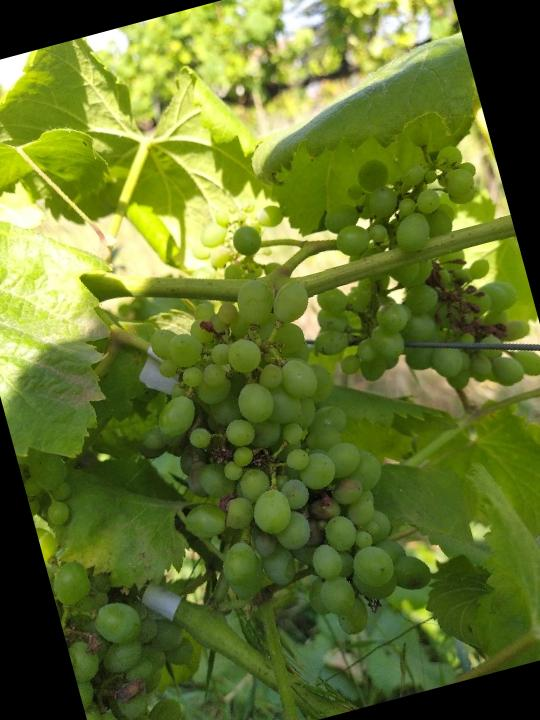grape: (102, 254, 443, 680), (264, 106, 540, 433)
